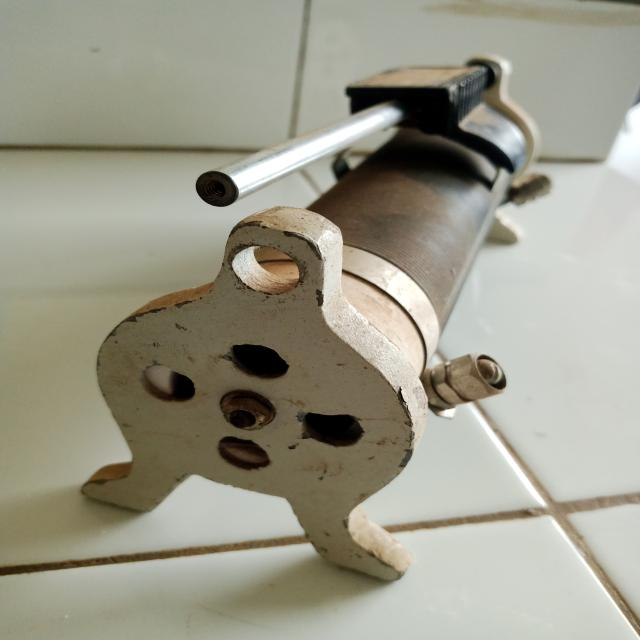Rheostat: (62, 49, 566, 613)
